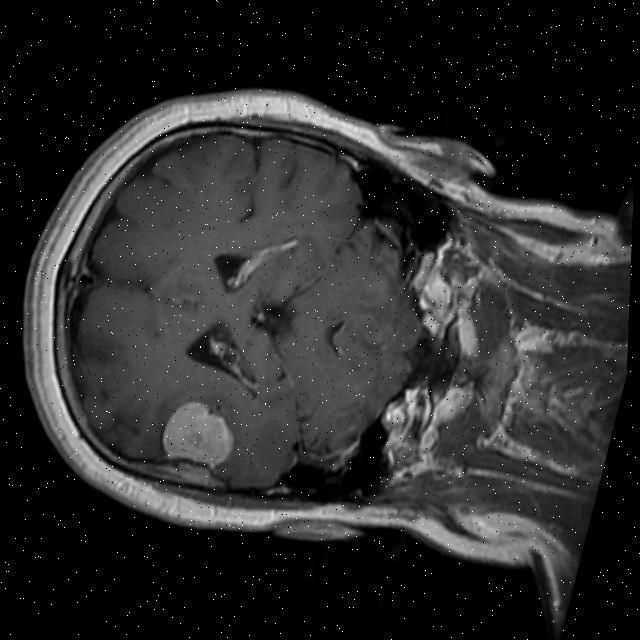Meningioma: (154, 390, 243, 473)
